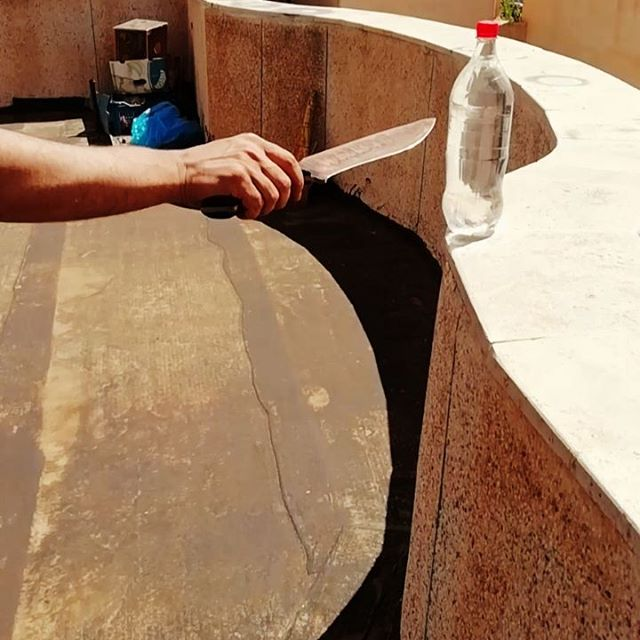knife: (201, 115, 437, 219)
